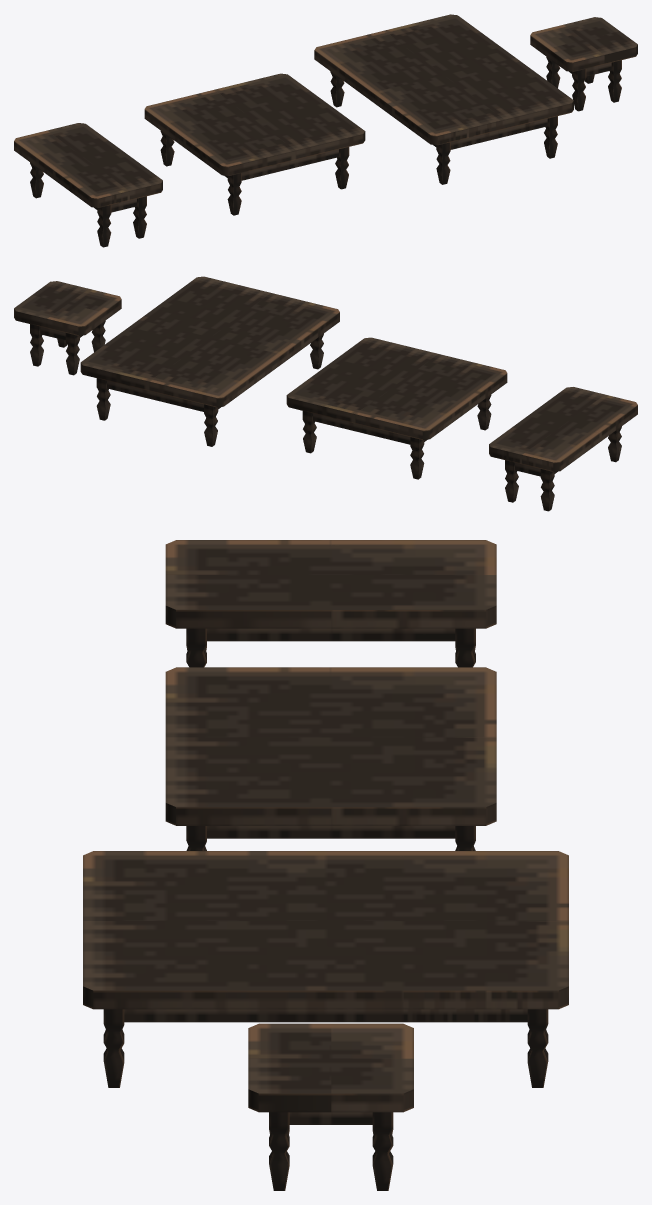
The model's file is ObjMD_Co_Table_Residence_A_2_2_1.FBX.
3 renders of one model, top to bottom at view 1: azimuth 30°, elevation 25°; view 2: azimuth 150°, elevation 25°; view 3: azimuth 270°, elevation 25°, orthographic. The views are drawn at different scales.
Visible parts, largest first — view 1: ObjMD_Co_Table_Residence_A_2_3_1, ObjMD_Co_Table_Residence_A_2_2_1, ObjMD_Co_Table_Residence_A_1_2_1, ObjMD_Co_Table_Residence_A_1_1_1; view 2: ObjMD_Co_Table_Residence_A_2_3_1, ObjMD_Co_Table_Residence_A_2_2_1, ObjMD_Co_Table_Residence_A_1_2_1, ObjMD_Co_Table_Residence_A_1_1_1; view 3: ObjMD_Co_Table_Residence_A_2_3_1, ObjMD_Co_Table_Residence_A_2_2_1, ObjMD_Co_Table_Residence_A_1_2_1, ObjMD_Co_Table_Residence_A_1_1_1.
Boxes of the visible parts, x1,y1,x2,y2 form: ObjMD_Co_Table_Residence_A_2_3_1: [314, 14, 573, 184]; ObjMD_Co_Table_Residence_A_2_2_1: [144, 73, 365, 215]; ObjMD_Co_Table_Residence_A_1_2_1: [14, 123, 162, 247]; ObjMD_Co_Table_Residence_A_1_1_1: [530, 17, 637, 111]; ObjMD_Co_Table_Residence_A_2_3_1: [80, 276, 339, 446]; ObjMD_Co_Table_Residence_A_2_2_1: [286, 337, 507, 479]; ObjMD_Co_Table_Residence_A_1_2_1: [489, 387, 637, 511]; ObjMD_Co_Table_Residence_A_1_1_1: [14, 281, 121, 375]; ObjMD_Co_Table_Residence_A_2_3_1: [83, 851, 568, 1087]; ObjMD_Co_Table_Residence_A_2_2_1: [165, 667, 496, 850]; ObjMD_Co_Table_Residence_A_1_2_1: [165, 540, 496, 667]; ObjMD_Co_Table_Residence_A_1_1_1: [248, 1023, 413, 1190].
Bounding box in the file's own units: 792 × 75 × 294.
